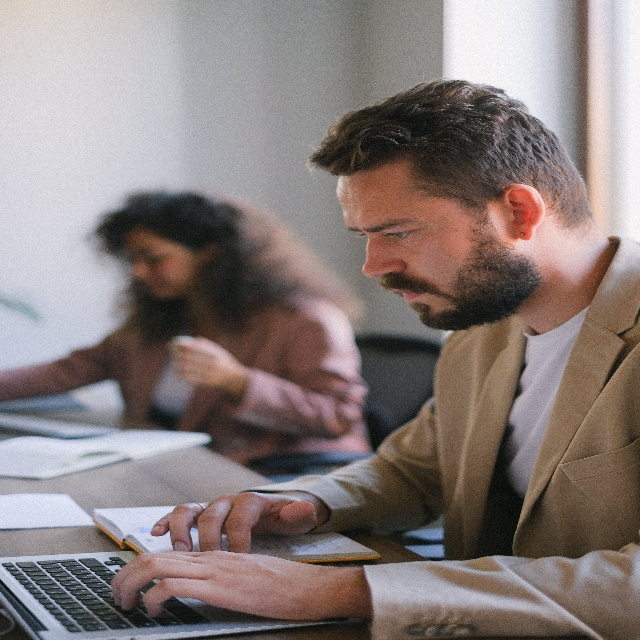Sin_guantes: (114, 552, 317, 626), (149, 485, 317, 543), (169, 330, 233, 389)
